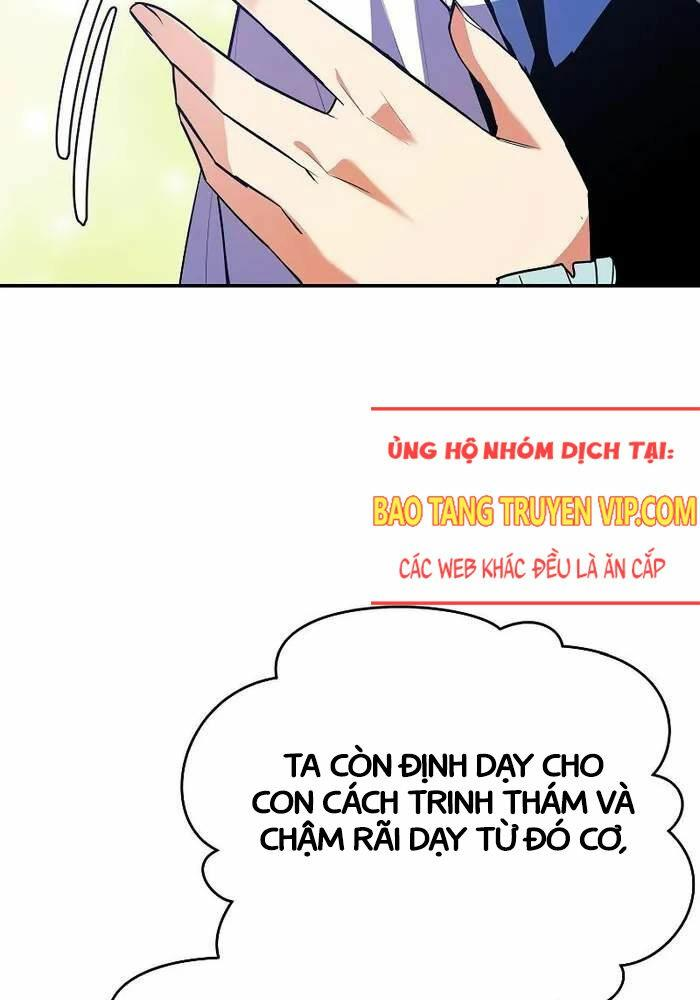quangcao: (373, 407, 700, 606)
